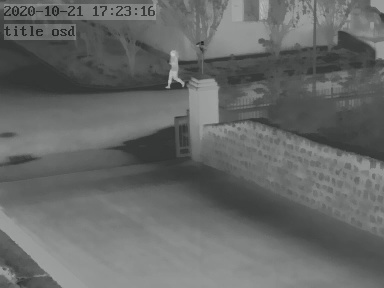person: (164, 47, 186, 89)
